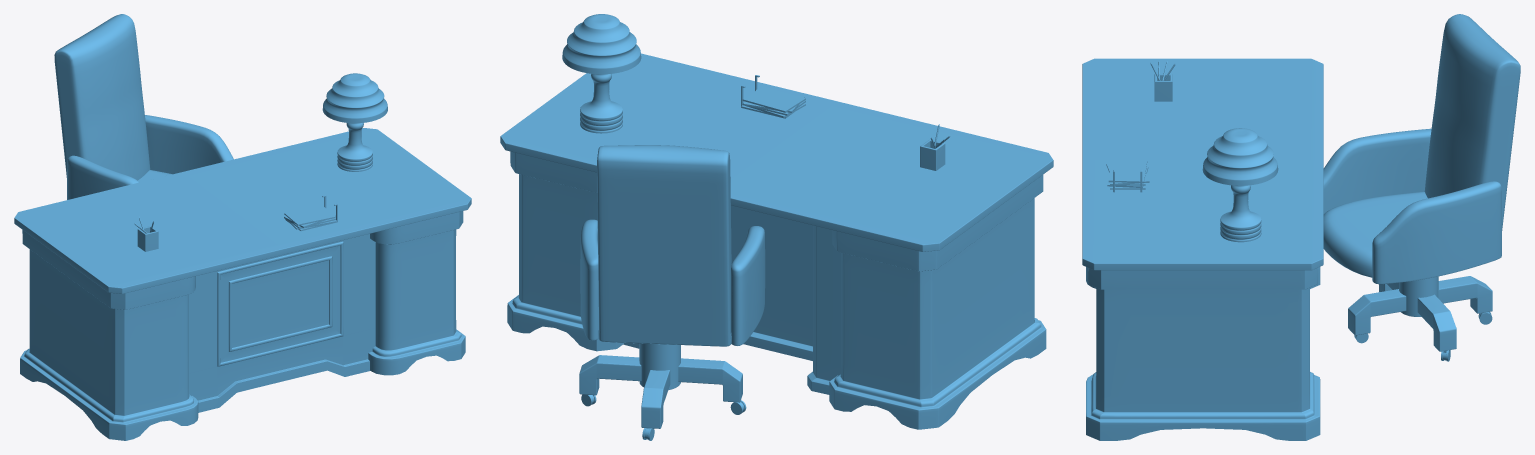
3 views of the same model, side by side, from view 1: azimuth 30°, elevation 25°; view 2: azimuth 150°, elevation 25°; view 3: azimuth 270°, elevation 25° (orthographic). The views are drawn at different scales.
Parts seen in each view (by area): view 1: Uv_004; view 2: Uv_004; view 3: Uv_004.
Boxes of the visible parts, x1,y1,x2,y2 form: Uv_004: [14, 14, 471, 440]; Uv_004: [500, 14, 1053, 440]; Uv_004: [1082, 14, 1520, 440].
Size of the model in its own units: 204 by 134 by 185.
